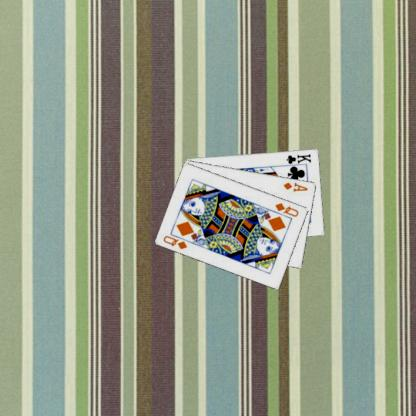AD: (281, 180, 309, 193)
KC: (282, 151, 312, 167)
QD: (273, 200, 300, 218), (161, 233, 189, 250)
